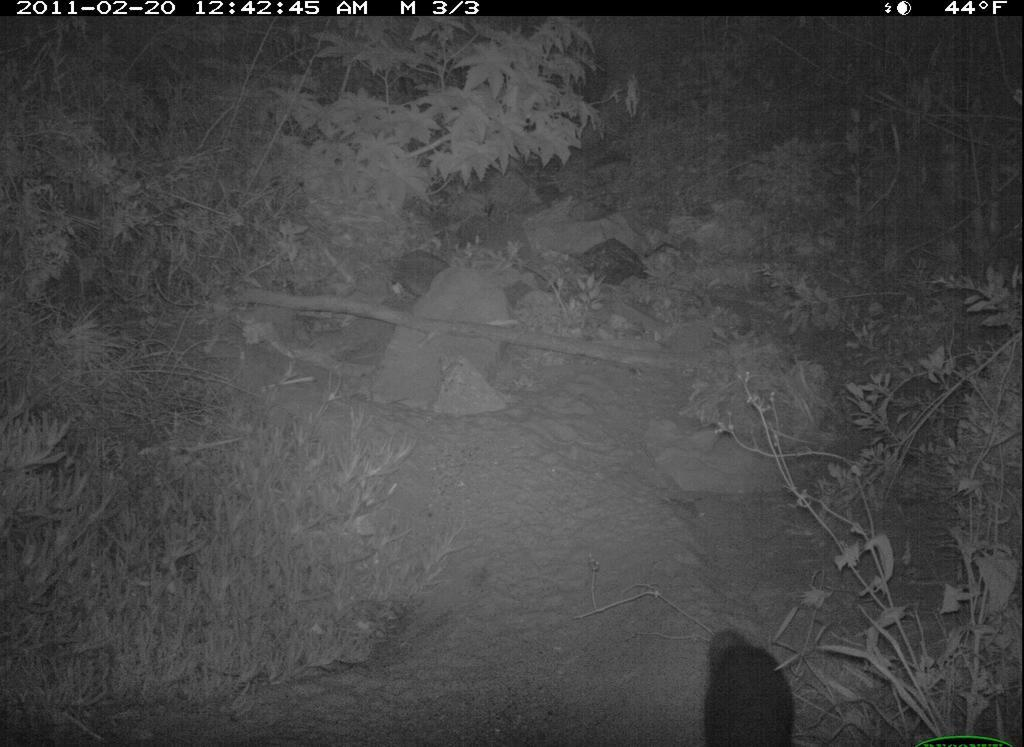cat: (698, 628, 801, 745)
